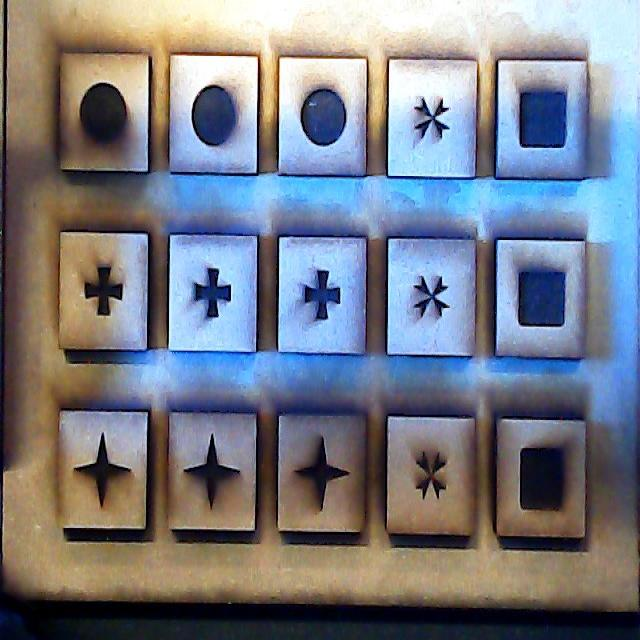circle: (275, 60, 367, 178), (60, 55, 149, 173), (171, 55, 260, 173)
maltese: (387, 56, 480, 179), (387, 236, 478, 356), (386, 418, 478, 536)
square: (496, 418, 588, 542), (496, 58, 587, 180), (500, 244, 588, 352)
star: (56, 414, 152, 536), (279, 417, 371, 537), (170, 410, 257, 535)
temple: (54, 233, 150, 355), (171, 235, 258, 354), (280, 237, 366, 355)
